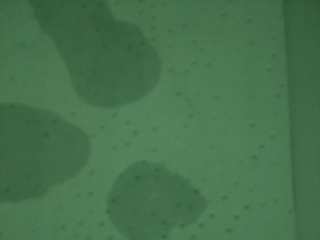Water_detected: (53, 0, 138, 87), (0, 123, 78, 186), (121, 176, 180, 223)
